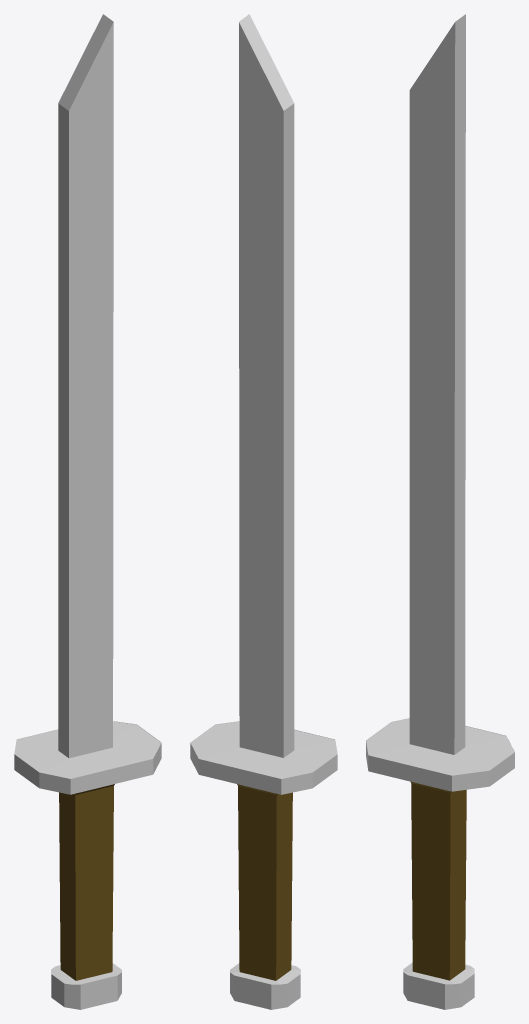
File: Sword.fbx
The picture shows the model from 3 angles, left to right: view 1: azimuth 30°, elevation 25°; view 2: azimuth 150°, elevation 25°; view 3: azimuth 330°, elevation 25°; orthographic projection.
Parts seen in each view (by area): view 1: Cube; view 2: Cube; view 3: Cube.
Boxes of the visible parts, x1=… form: Cube: x1=14, y1=14, x2=161, y2=1009; Cube: x1=190, y1=14, x2=337, y2=1009; Cube: x1=366, y1=14, x2=514, y2=1009.
Size of the model in its own units: 45.87 by 35.05 by 349.
